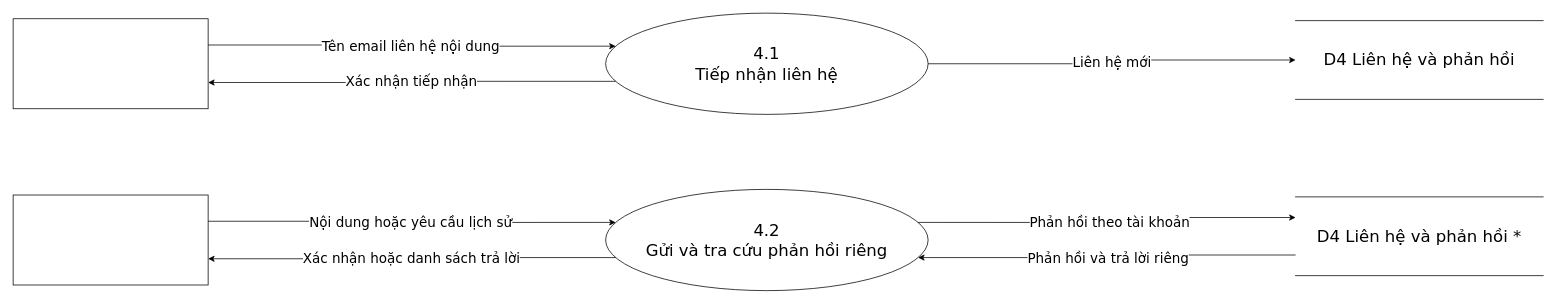
Some shapes in this 1556 by 304 pixel diagram are drawn without their labels. The shapes that lost their labels are listed below. From the top down, each one's centre as x and y in pixels, then its label:
At pixel 110 63: "Khách hoặc thành viên".
At pixel 110 239: "Thành viên".
